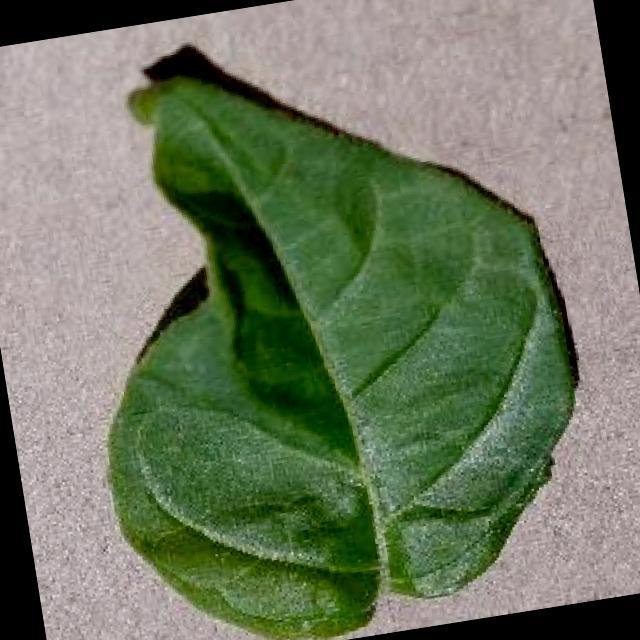Leaf: (1, 5, 636, 640)
